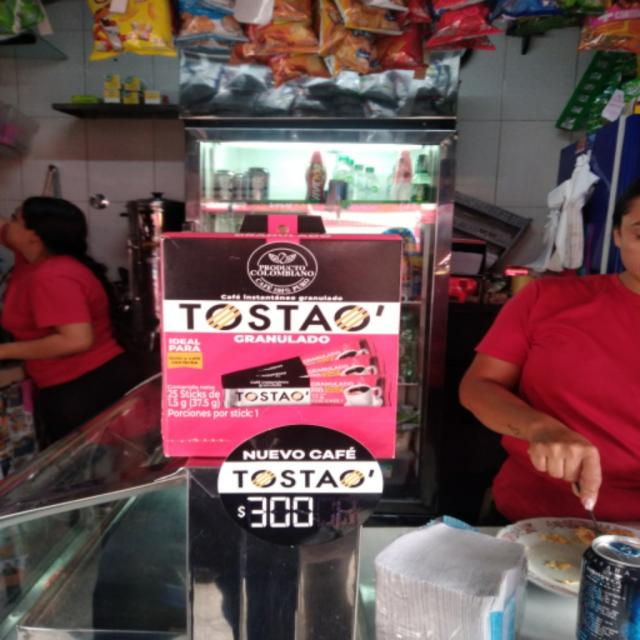Precio: (233, 490, 317, 533)
